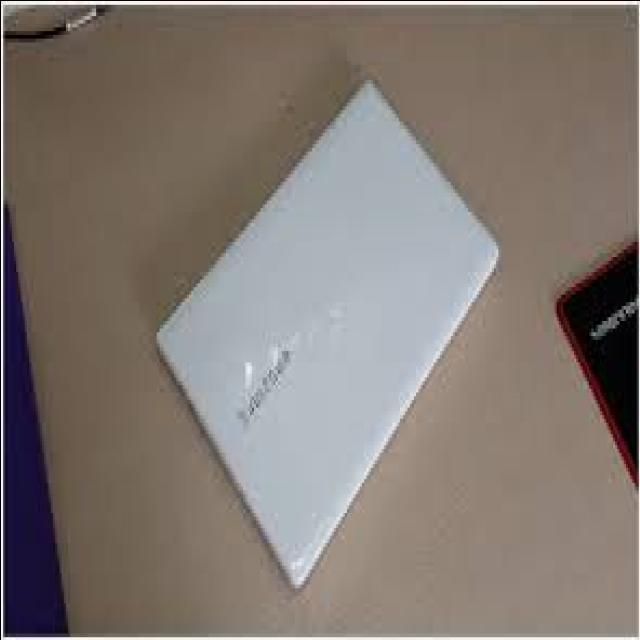laptop: (157, 71, 505, 596)
